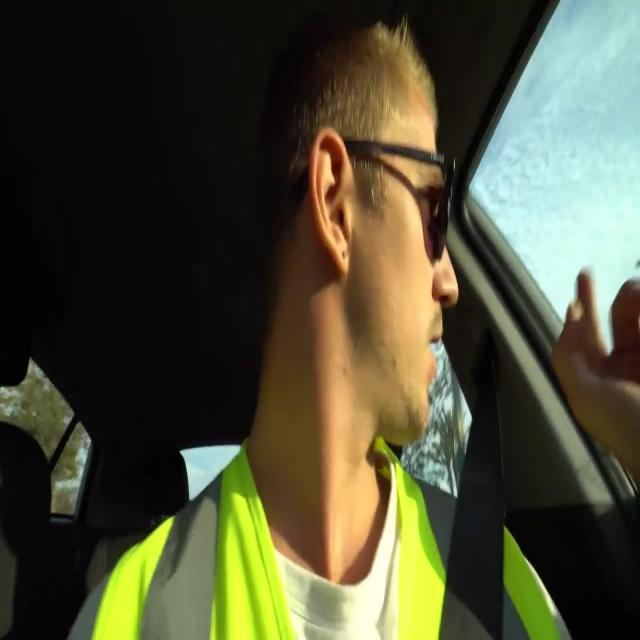Reflective-Jacket: (86, 412, 582, 638)
